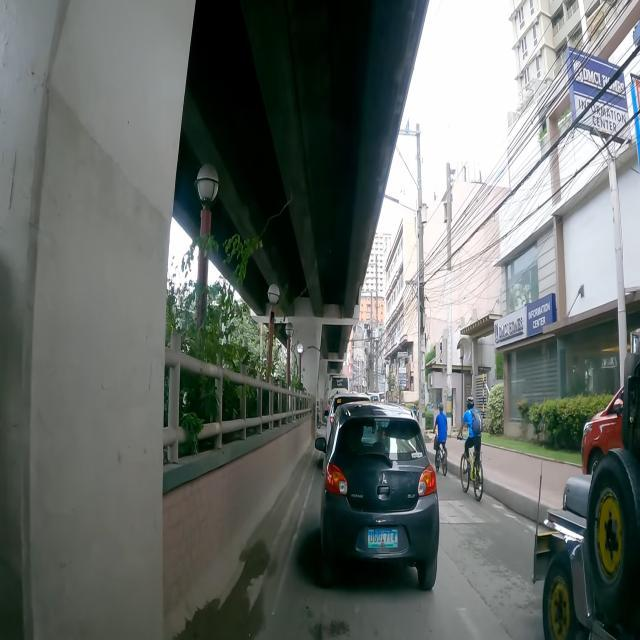bike: (461, 398, 484, 500), (432, 402, 448, 475)
bus: (327, 375, 349, 412)
car: (320, 402, 440, 590), (582, 388, 624, 473)
jeepney: (535, 330, 640, 640)
motorcycle: (316, 409, 322, 428)
